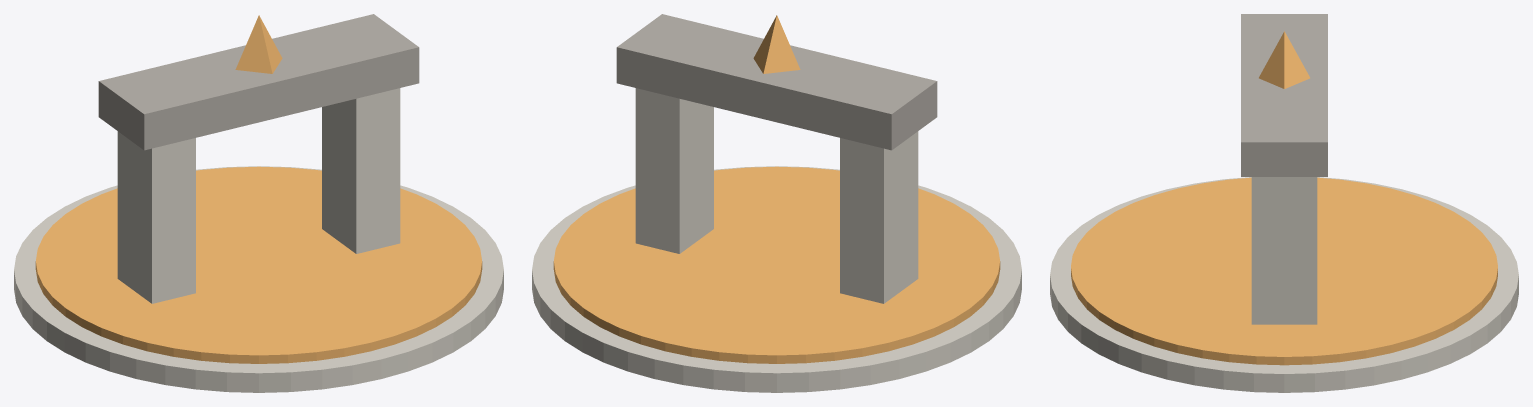
File: arch.glb
3 views of the same model, side by side, from view 1: azimuth 30°, elevation 25°; view 2: azimuth 150°, elevation 25°; view 3: azimuth 270°, elevation 25° (orthographic). The views are drawn at different scales.
Visible parts, largest first — view 1: Cone.002; view 2: Cone.002; view 3: Cone.002.
Boxes of the visible parts, <box> form: Cone.002: <box>14,14,503,392</box>; Cone.002: <box>532,14,1021,392</box>; Cone.002: <box>1050,14,1518,392</box>.
Bounding box in the file's own units: 2.7 × 1.67 × 2.7.
